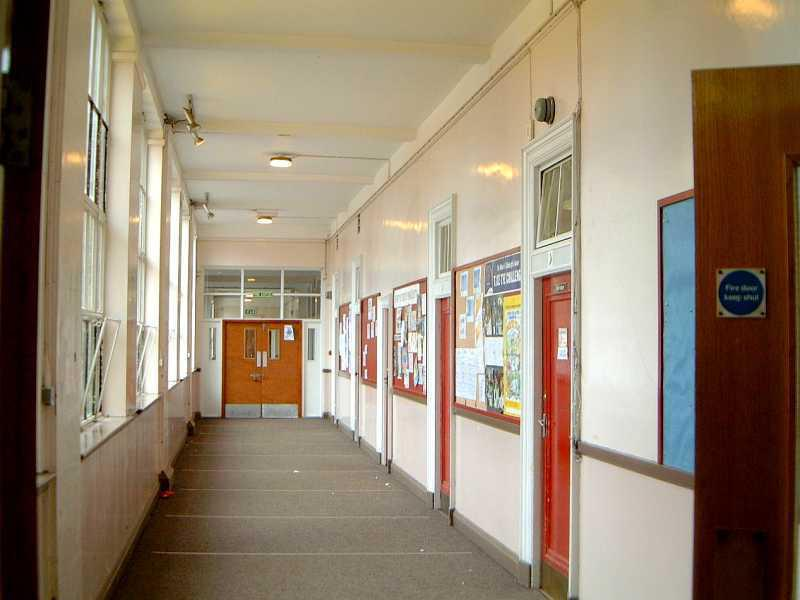Puerta: (686, 67, 796, 599), (529, 274, 575, 596), (434, 296, 454, 521)
Ventana: (78, 25, 133, 437), (135, 59, 167, 398)
